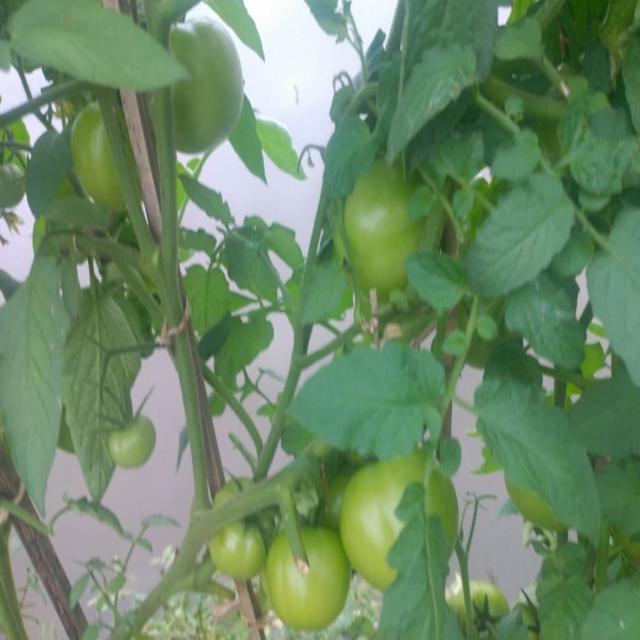tomato: (177, 20, 254, 150), (338, 168, 415, 293), (268, 527, 350, 622), (344, 464, 411, 578), (75, 103, 126, 213), (507, 482, 560, 537), (111, 414, 157, 476), (216, 529, 268, 577), (465, 579, 509, 625), (3, 167, 28, 211)
